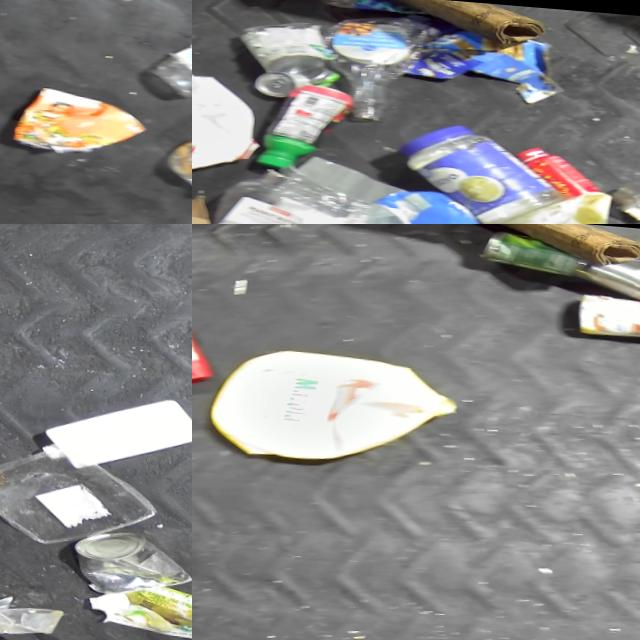can: (75, 521, 192, 594), (480, 224, 588, 273), (575, 281, 640, 332), (585, 245, 640, 297), (252, 63, 310, 96)
milk_jug: (36, 382, 192, 475), (192, 59, 260, 175)
non_white_jug: (205, 334, 462, 470)
plastic_bottle: (327, 4, 432, 119), (319, 0, 425, 12)
